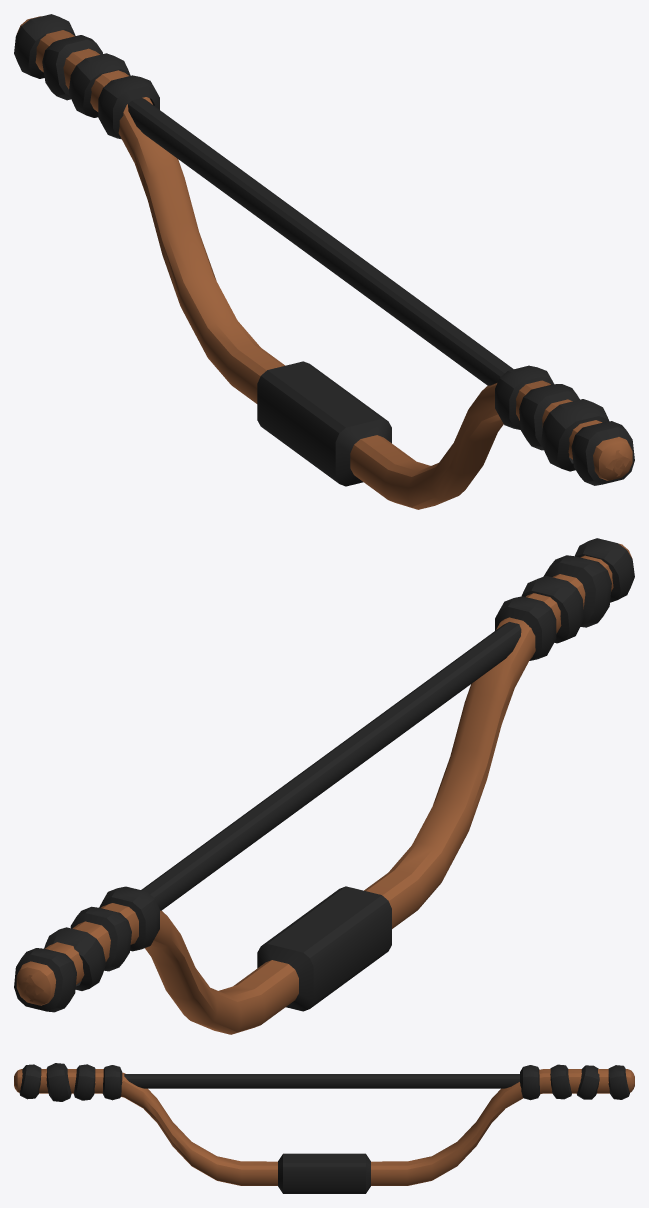
File: Bow.fbx
3 views of the same model, one above another, from view 1: azimuth 30°, elevation 25°; view 2: azimuth 150°, elevation 25°; view 3: azimuth 270°, elevation 25° (orthographic). The views are drawn at different scales.
Visible parts, largest first — view 1: Bow; view 2: Bow; view 3: Bow.
Part boxes in pixels (x1=…): Bow: x1=14, y1=14, x2=634, y2=509; Bow: x1=14, y1=538, x2=634, y2=1034; Bow: x1=14, y1=1063, x2=634, y2=1193.
Bounding box in the file's own units: 7.34 × 27.48 × 126.
